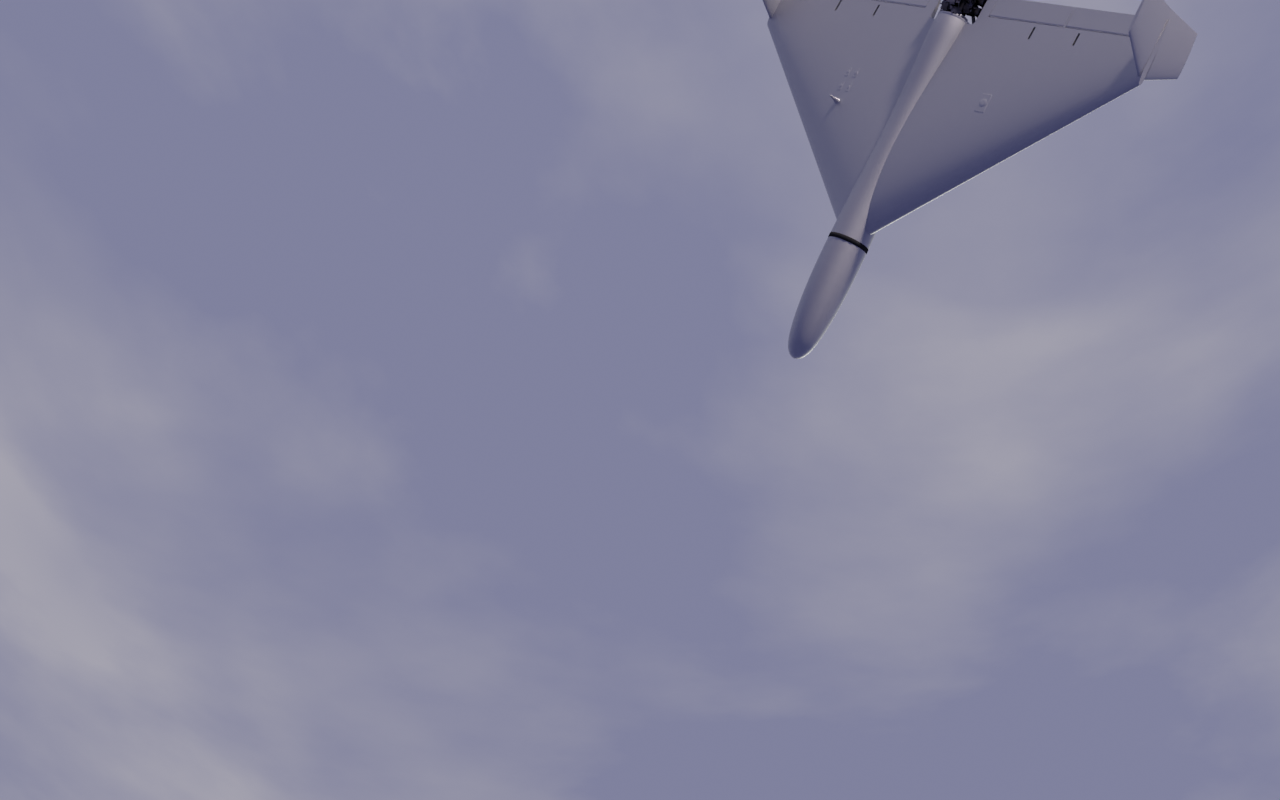shahed: (763, 1, 1199, 361)
